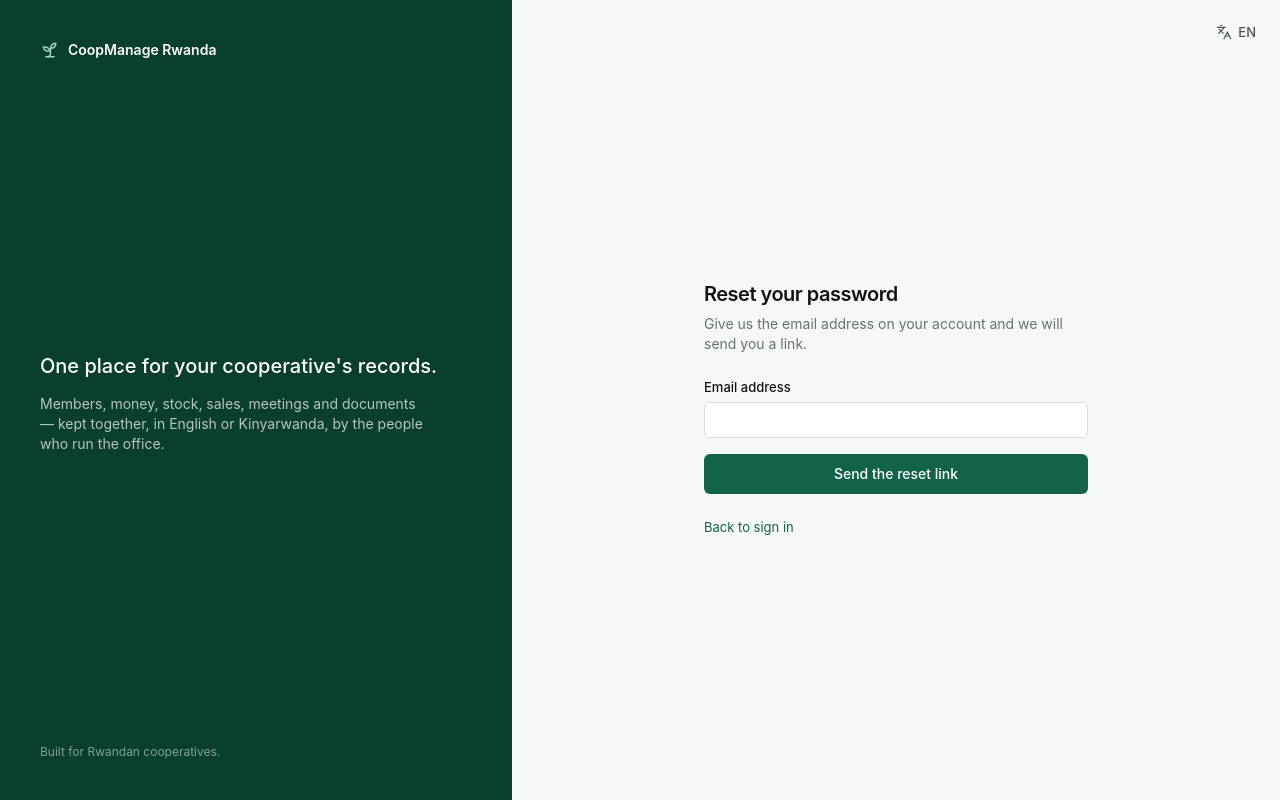
Test case: forgot password › says the same thing whether or not the address is registered
Type "nobody@example.test" into the field labelled "Email address".
click(896, 420); type("nobody@example.test")  # box [704, 402, 1088, 438]
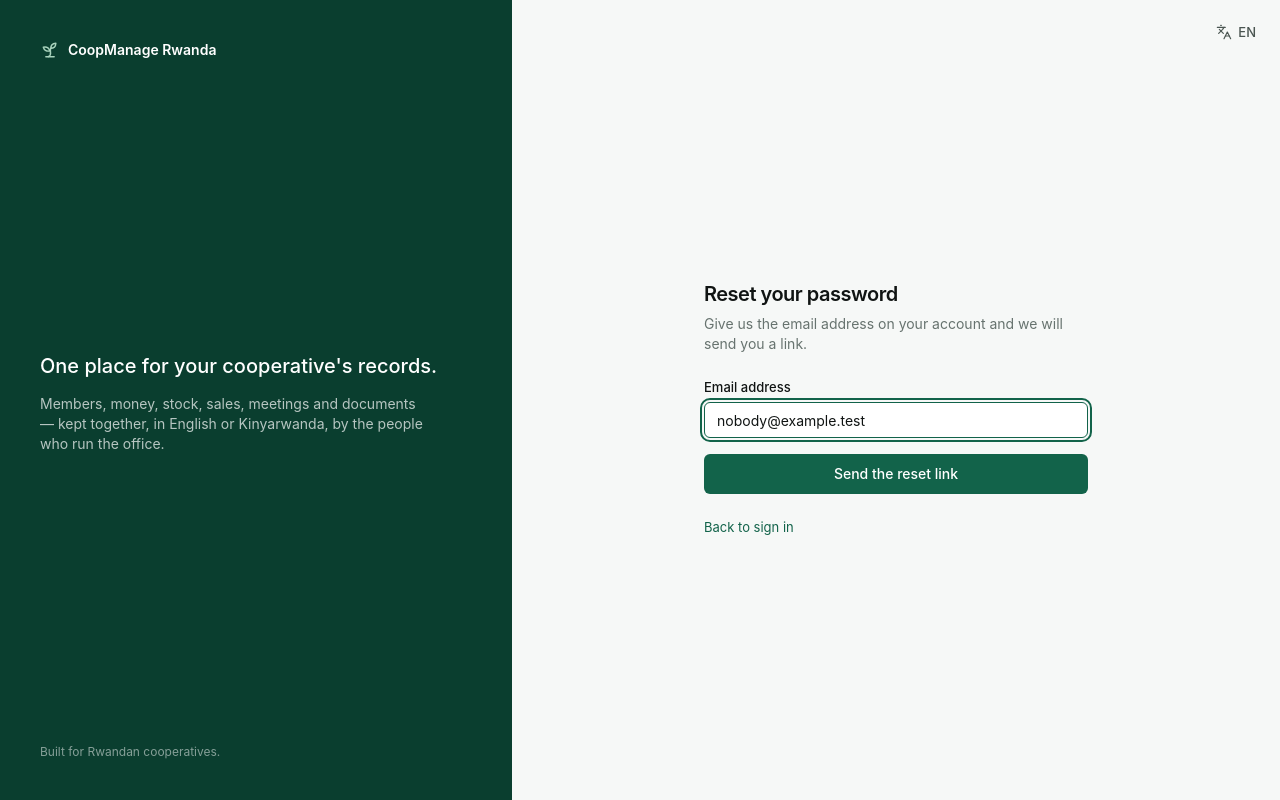
Click the button "Send the reset link".
click(896, 474)  # box [704, 454, 1088, 494]
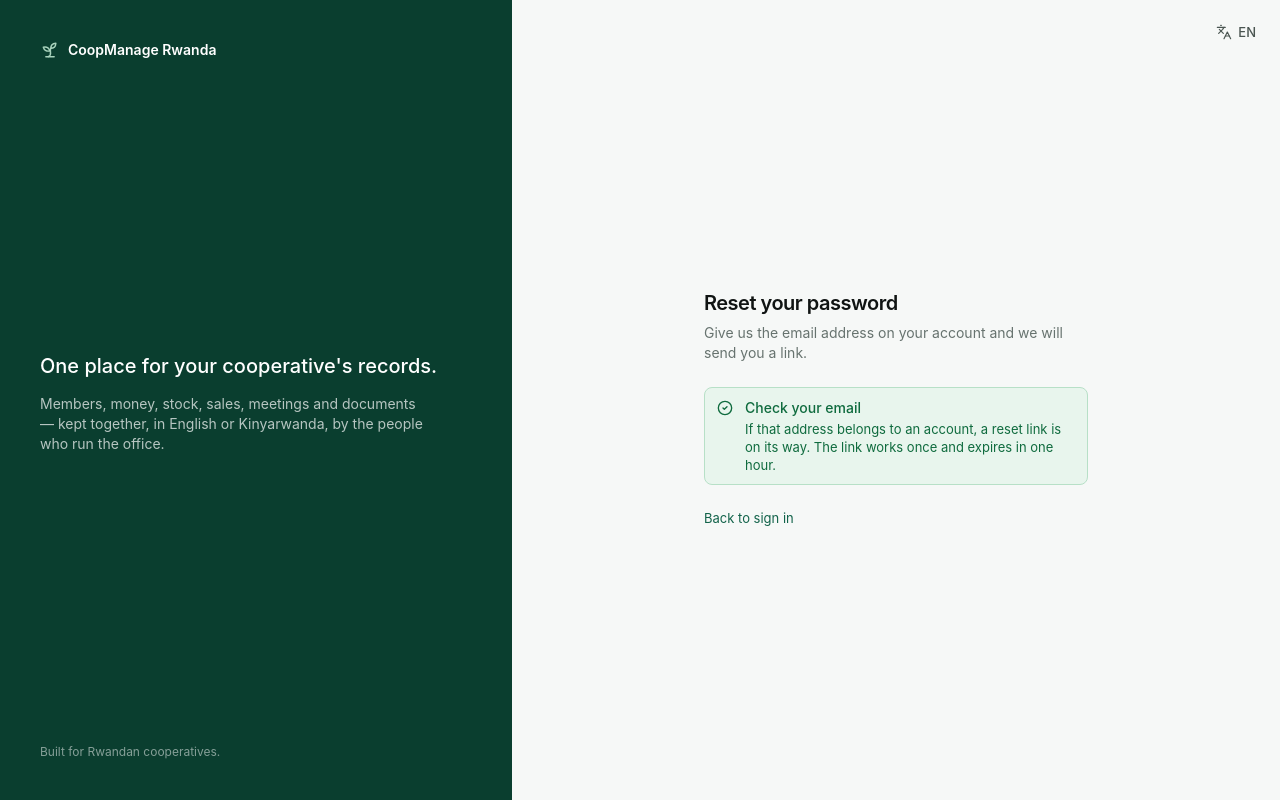
Result: the text "If that address belongs to an account" is shown at [745, 421, 1061, 473]
